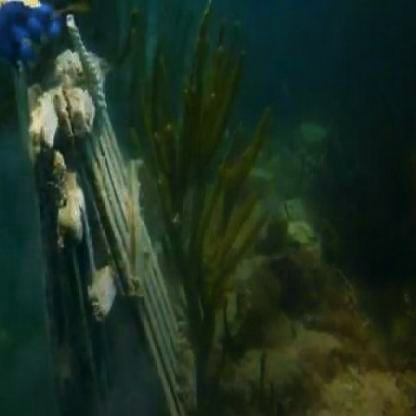misc: (45, 76, 167, 356)
